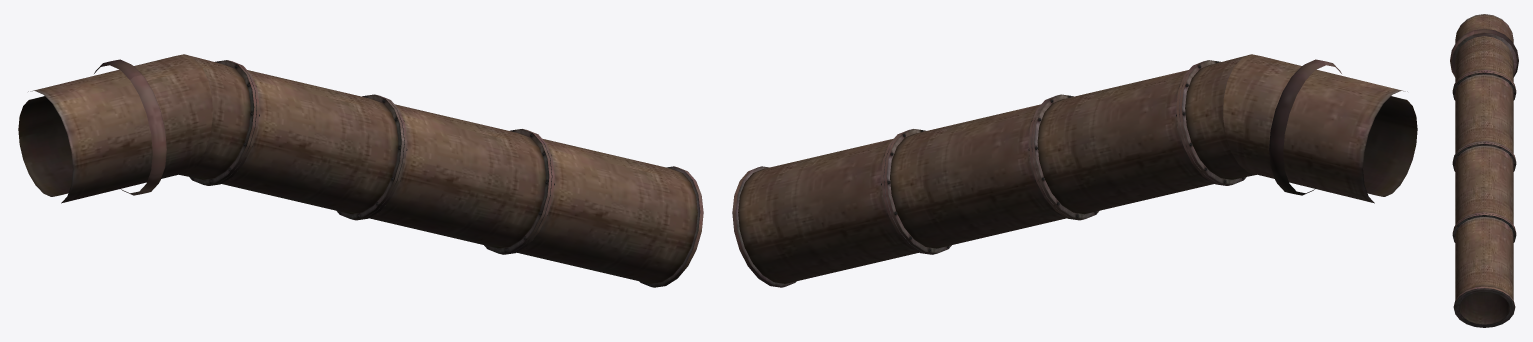
Rendered from pipe_goopit02.glb.
The picture shows the model from 3 angles, left to right: view 1: azimuth 30°, elevation 25°; view 2: azimuth 150°, elevation 25°; view 3: azimuth 270°, elevation 25°; orthographic projection. The views are drawn at different scales.
Parts seen in each view (by area): view 1: 0_pipe_goopit02; view 2: 0_pipe_goopit02; view 3: 0_pipe_goopit02.
Boxes of the visible parts, x1,y1,x2,y2 form: 0_pipe_goopit02: (18,54,703,287); 0_pipe_goopit02: (732,54,1417,287); 0_pipe_goopit02: (1450,14,1518,327).
Bounding box in the file's own units: 12.9 × 6.59 × 2.39.
1 material, 1 textured.
